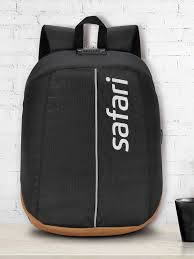backpack: (19, 15, 163, 237)
